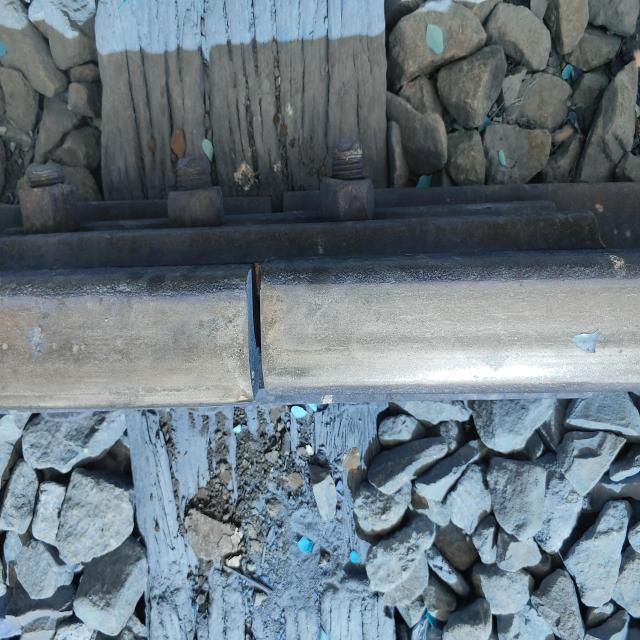head_checks_low: (573, 322, 603, 360)
railway_join_bar_defects_low: (240, 194, 280, 403)
